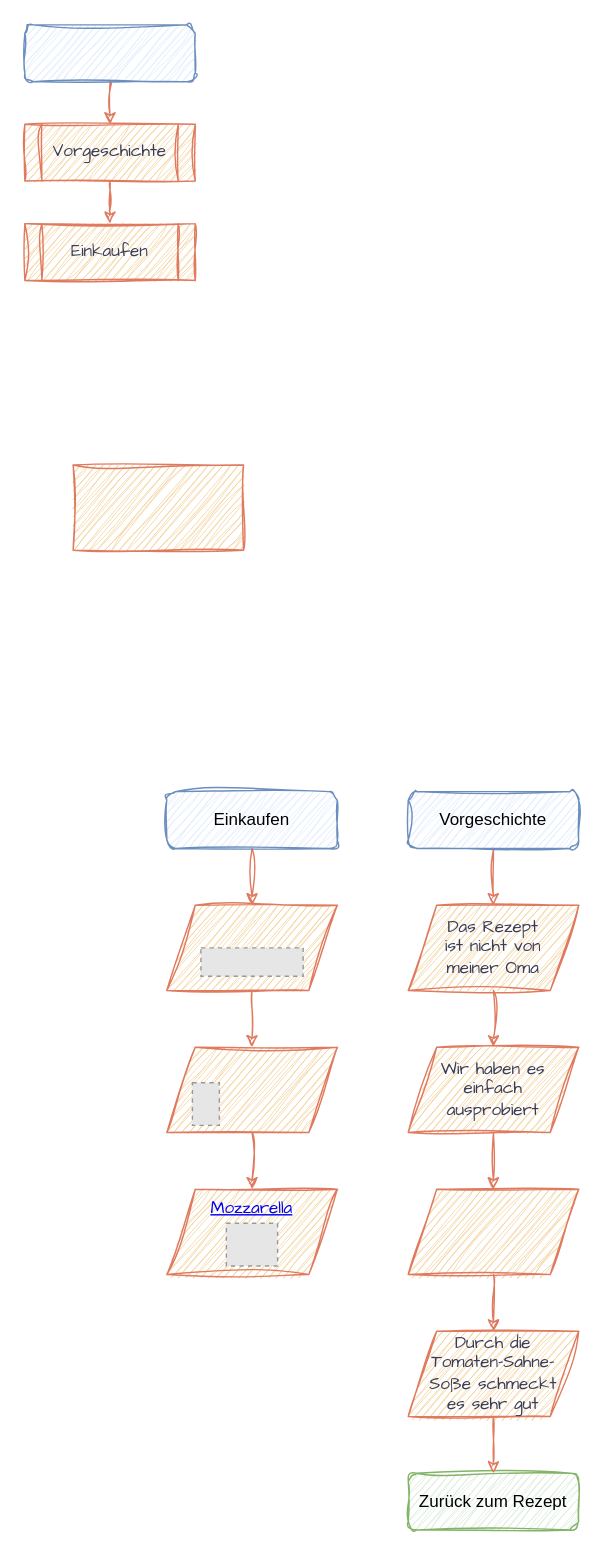
This 604x1555 diagram has some shape labels left out. Grey dashed boxes stand in for pictures. Each missing label, with the box of its shape:
Alle Zutaten können bei Aldi Süd gekauft werden: (407, 1188, 579, 1274)
Pizzateig XXL: (165, 904, 337, 990)
Tomaten-Sahne- Sauce: (165, 1046, 337, 1132)
Vegetarische Pizza: (23, 23, 195, 82)
